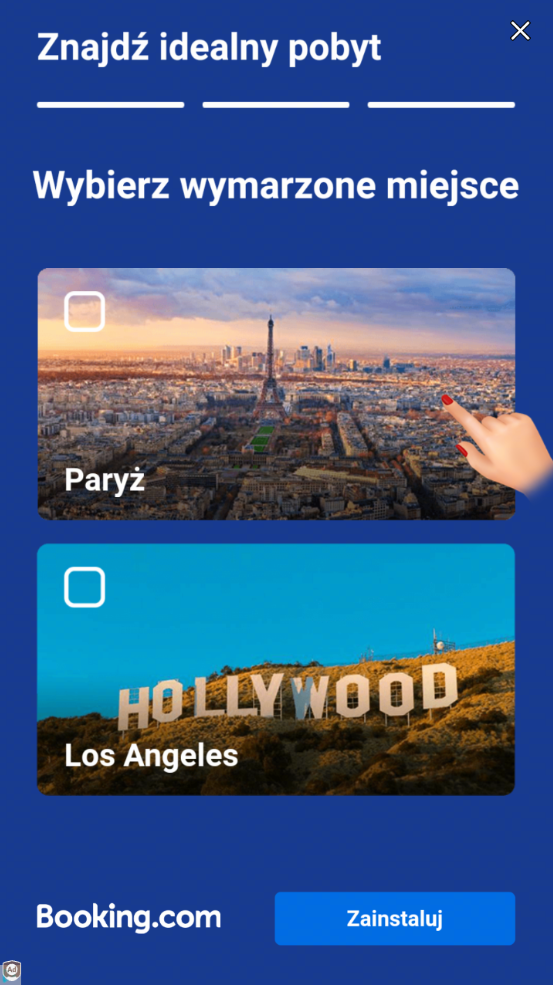close_button: (504, 14, 536, 44)
